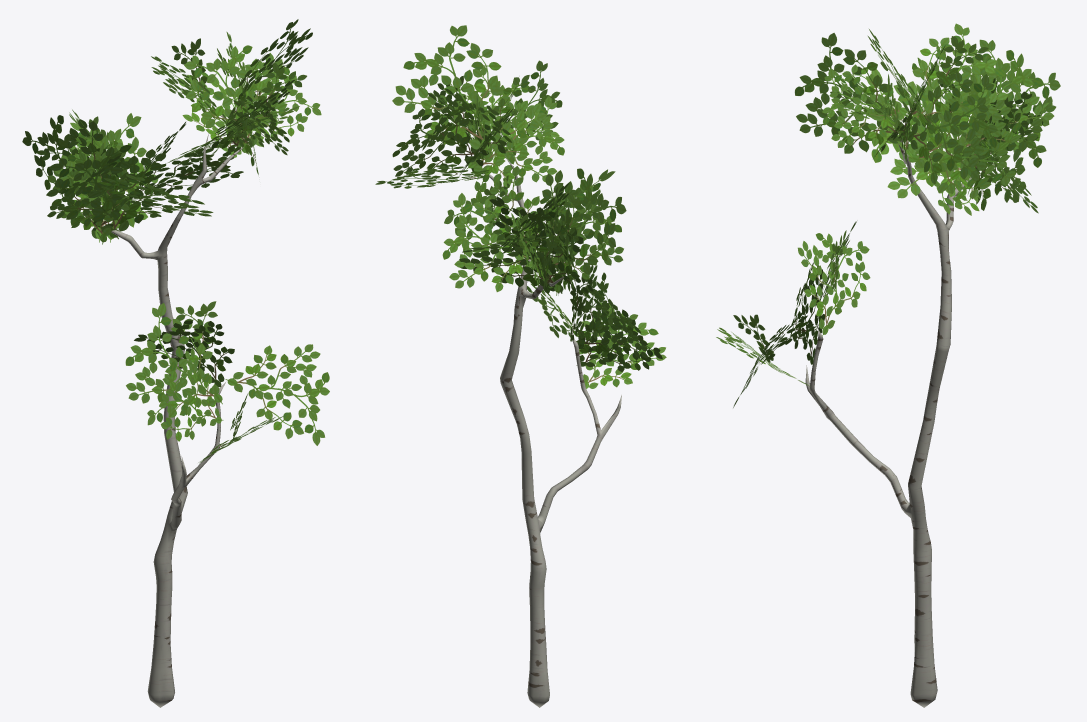
The model's file is tree-birchtree_small.glb.
3 renders of one model, left to right at view 1: azimuth 30°, elevation 25°; view 2: azimuth 150°, elevation 25°; view 3: azimuth 270°, elevation 25°, orthographic. The views are drawn at different scales.
Parts seen in each view (by area): view 1: BirchTree_Small.dmx-static; view 2: BirchTree_Small.dmx-static; view 3: BirchTree_Small.dmx-static.
Boxes of the visible parts, x1,y1,x2,y2 form: BirchTree_Small.dmx-static: (22, 19, 329, 707); BirchTree_Small.dmx-static: (375, 25, 666, 707); BirchTree_Small.dmx-static: (716, 23, 1060, 707).
Bounding box in the file's own units: 3.84 × 8.78 × 3.84.
Materials: 2 (2 with a texture image).
